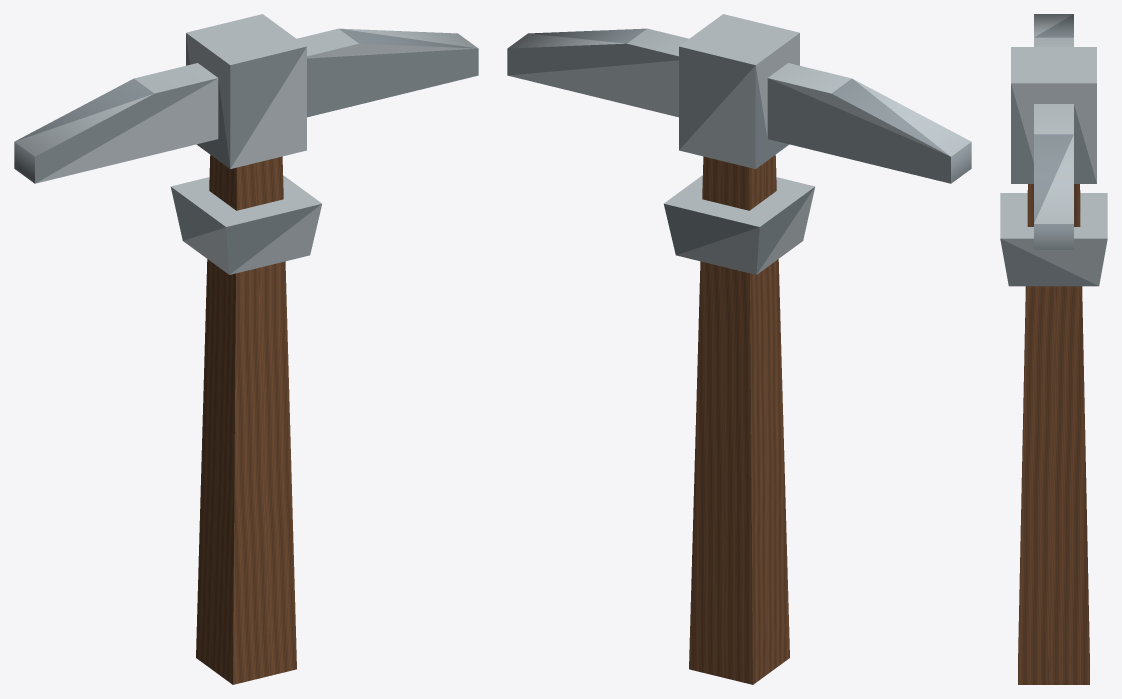
Rendered from pickaxe_v1.glb.
3 renders of one model, left to right at view 1: azimuth 30°, elevation 25°; view 2: azimuth 150°, elevation 25°; view 3: azimuth 270°, elevation 25°, orthographic. The views are drawn at different scales.
Parts seen in each view (by area): view 1: Basic_pickaxe; view 2: Basic_pickaxe; view 3: Basic_pickaxe.
Part boxes in pixels (x1,y1,x2,y2): Basic_pickaxe: (14, 14, 478, 684); Basic_pickaxe: (507, 14, 971, 684); Basic_pickaxe: (1000, 14, 1107, 684).
Bounding box in the file's own units: 0.64 × 0.86 × 0.1387.
3 materials, 1 textured.
